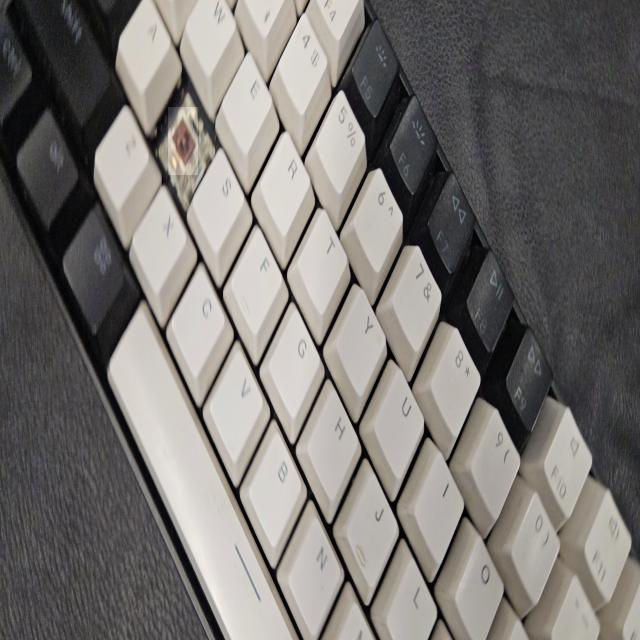C: (168, 107, 198, 175)
